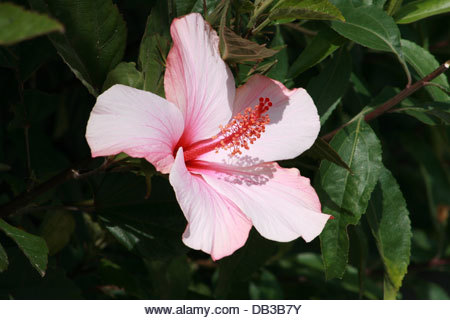Hibiscus: (83, 13, 339, 255)
